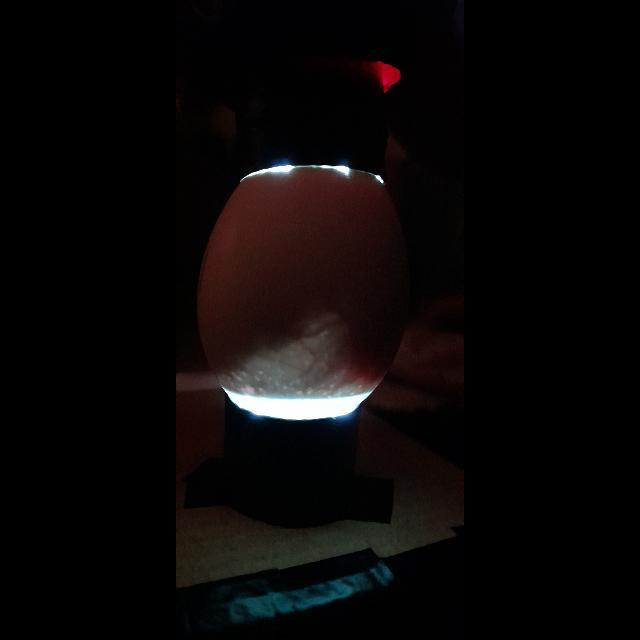Fertile: (199, 165, 405, 421)
